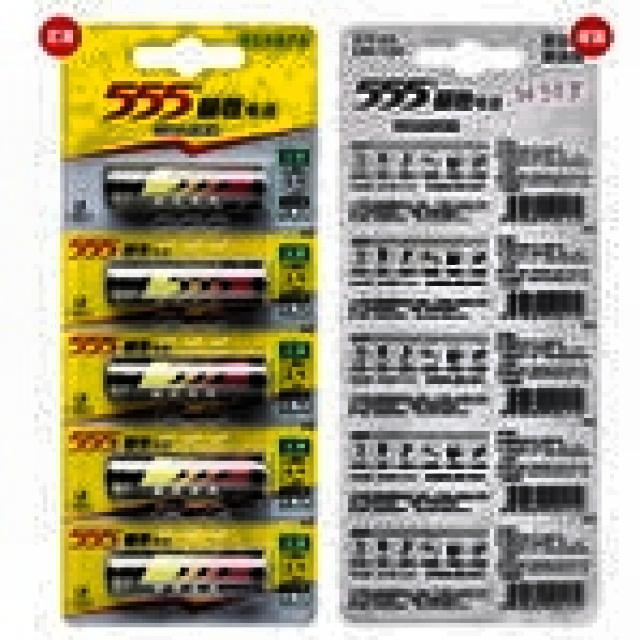Non-Valuable Waste - Batteries: (104, 165, 264, 214), (107, 553, 266, 599), (106, 359, 266, 402), (107, 456, 264, 498), (106, 263, 264, 304)
